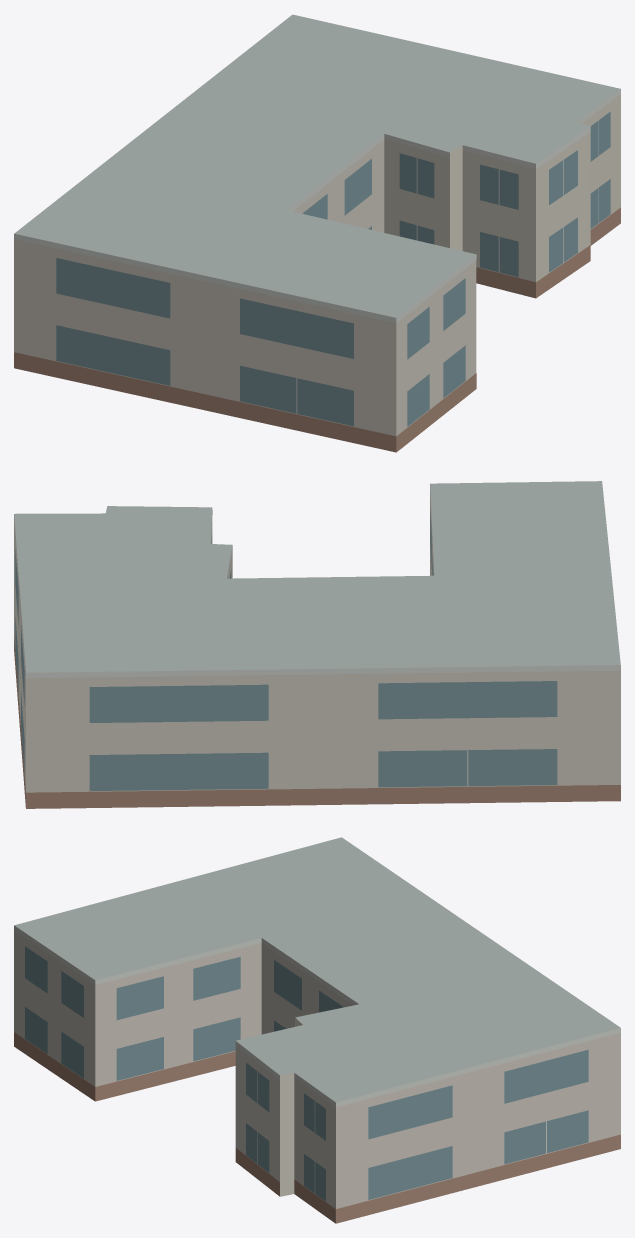
The model's file is survey-upis-32768809.glb.
3 renders of one model, top to bottom at view 1: azimuth 30°, elevation 25°; view 2: azimuth 150°, elevation 25°; view 3: azimuth 270°, elevation 25°, orthographic. The views are drawn at different scales.
Parts seen in each view (by area): view 1: survey-upis-32768809.tmp; view 2: survey-upis-32768809.tmp; view 3: survey-upis-32768809.tmp.
Part boxes in pixels (<box>): survey-upis-32768809.tmp: <box>14,14,620,452</box>; survey-upis-32768809.tmp: <box>14,481,620,808</box>; survey-upis-32768809.tmp: <box>14,837,620,1223</box>.
Bounding box in the file's own units: 28.63 × 6.1 × 27.68.
